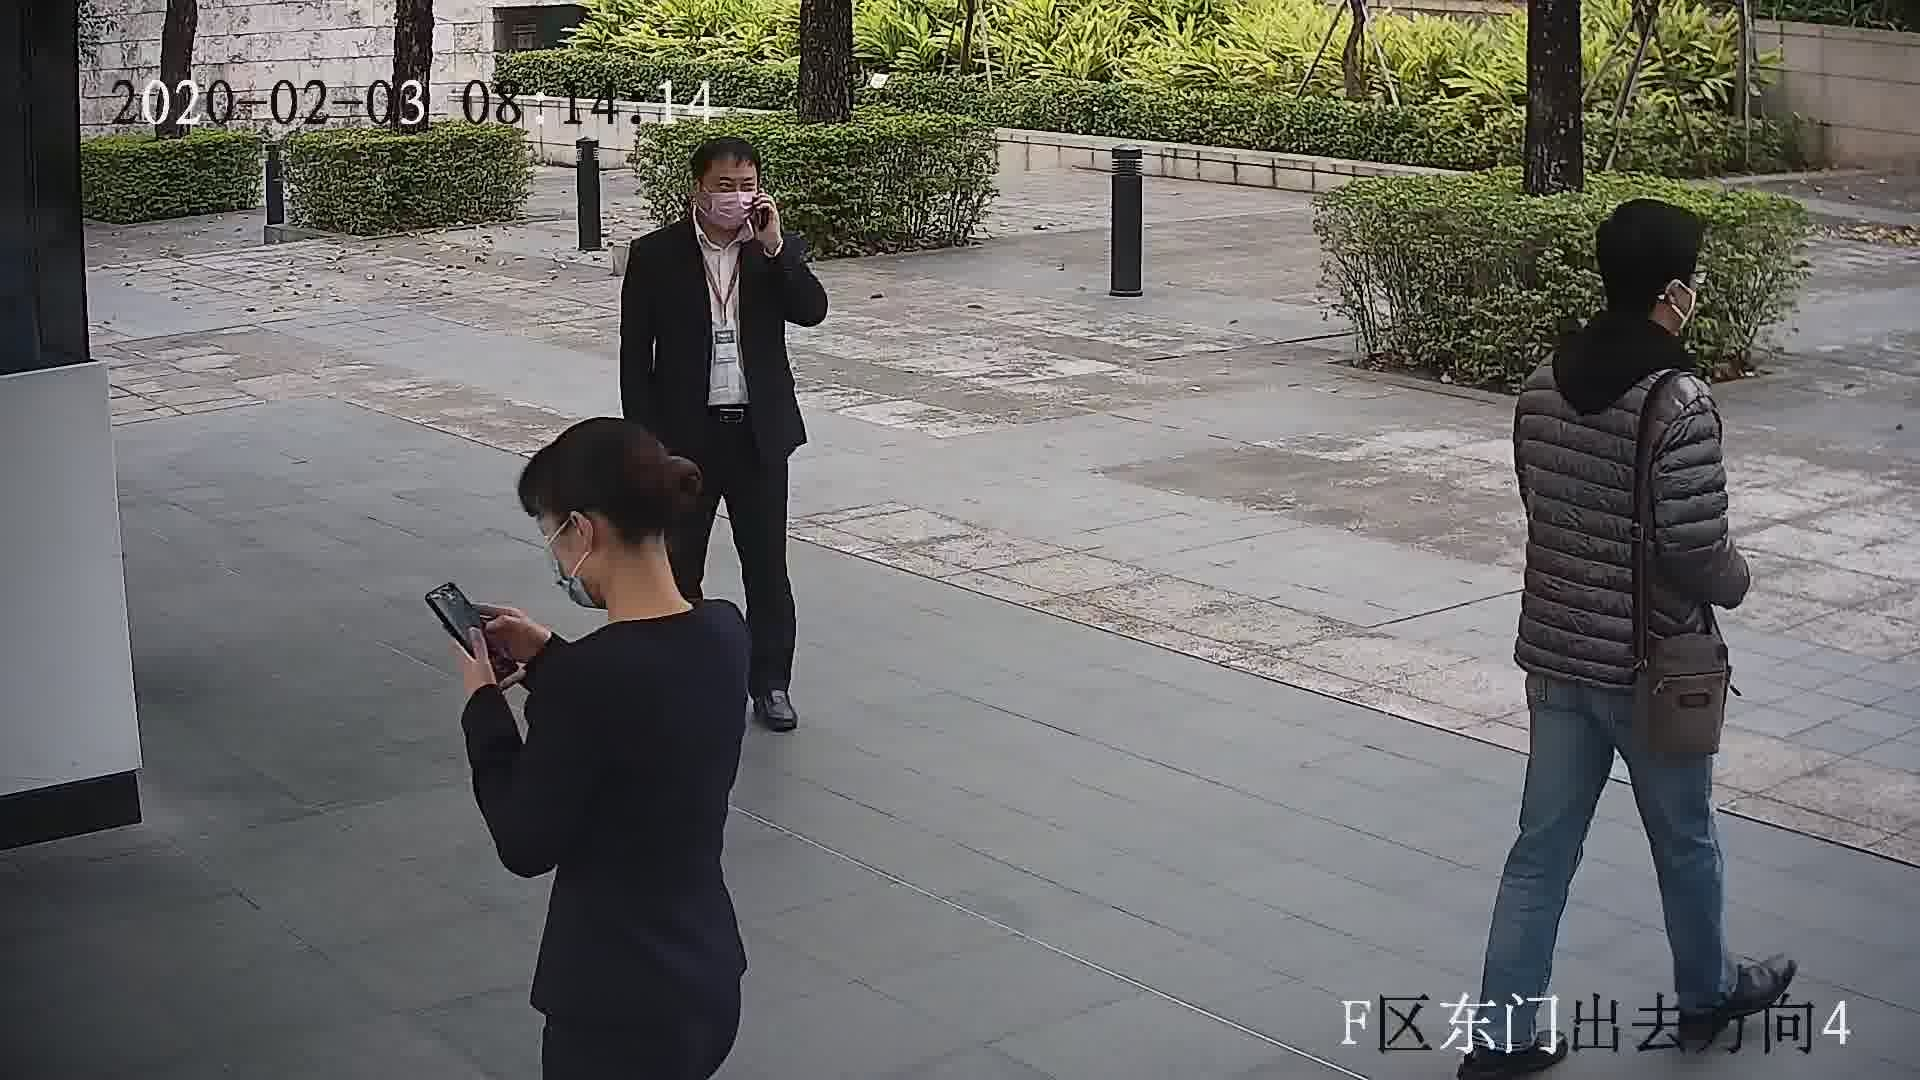face: (521, 492, 649, 618), (691, 157, 768, 233)
mask: (539, 537, 590, 609), (706, 192, 765, 230)
person: (509, 418, 764, 715), (1519, 197, 1725, 438), (629, 135, 799, 283), (631, 137, 801, 285)
